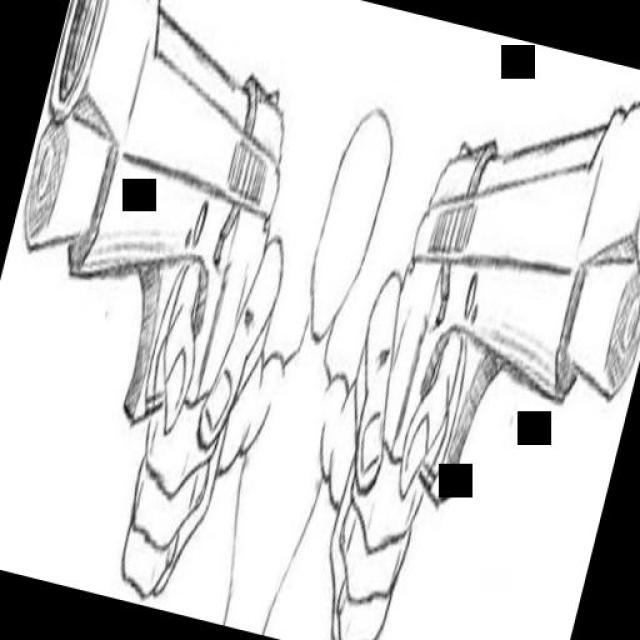gun: (0, 0, 335, 614), (319, 53, 640, 632)
